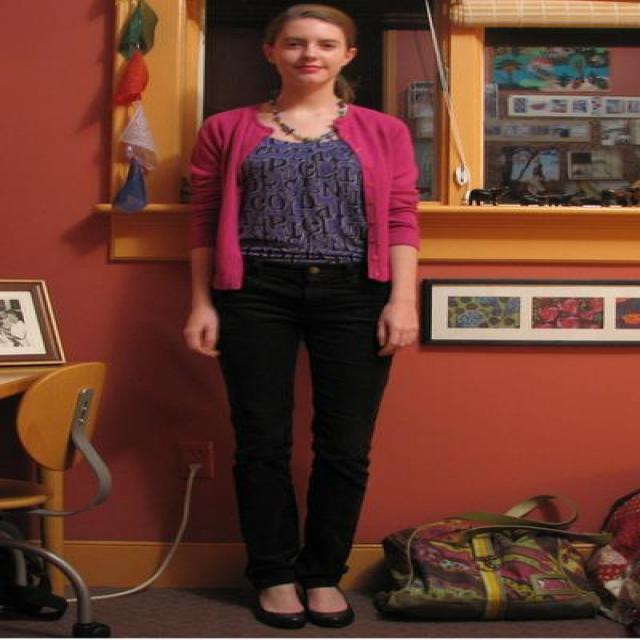jacket: (181, 103, 440, 288)
pants: (210, 255, 392, 600)
shirt: (237, 125, 373, 275)
